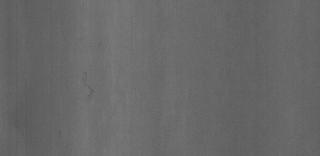water spot: (76, 66, 100, 104)
